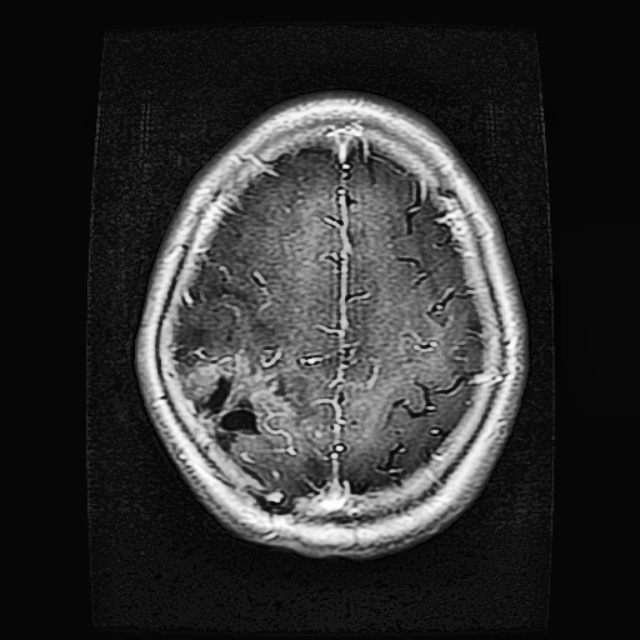Glioma: (177, 352, 293, 472)
